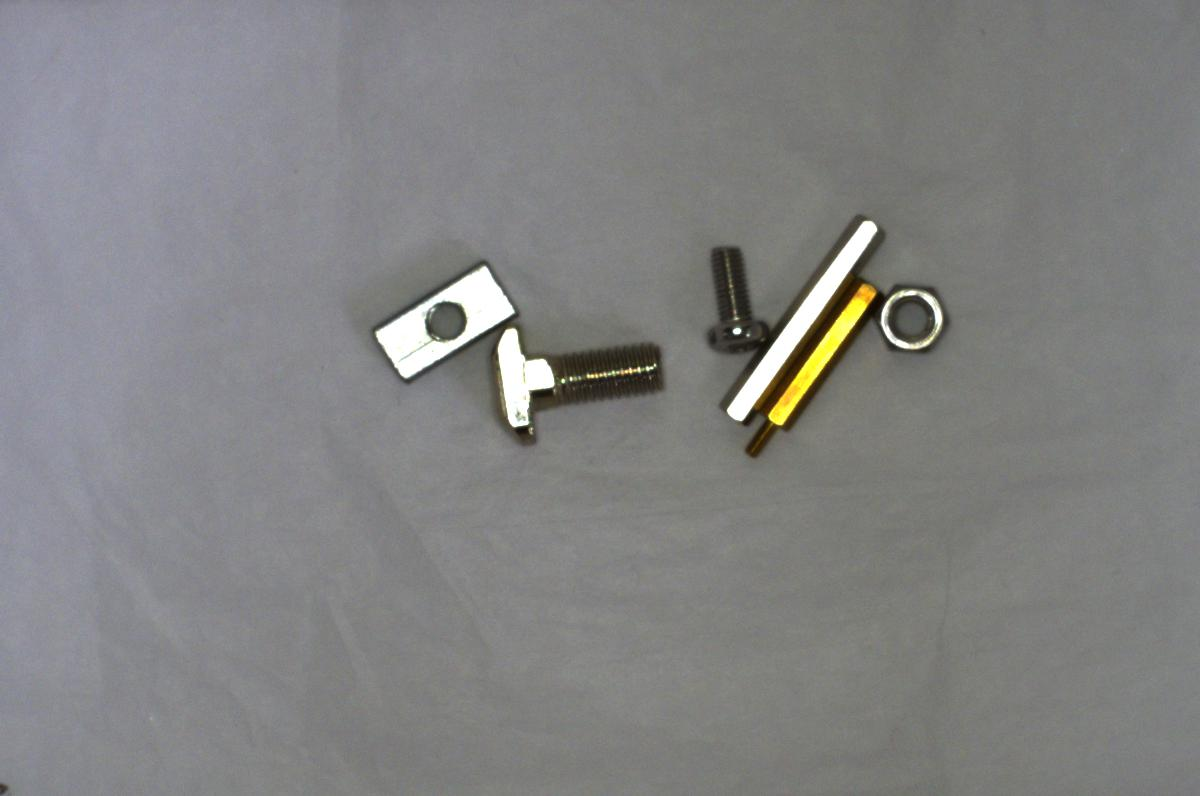Double hexagonal column: (719, 209, 879, 425)
Hexagon nut: (873, 278, 958, 356)
Hexagon pillar: (738, 280, 879, 461)
Rectangular nut: (366, 258, 518, 387)
Round head screw: (699, 233, 766, 355)
T-shaped screw: (486, 320, 677, 445)
